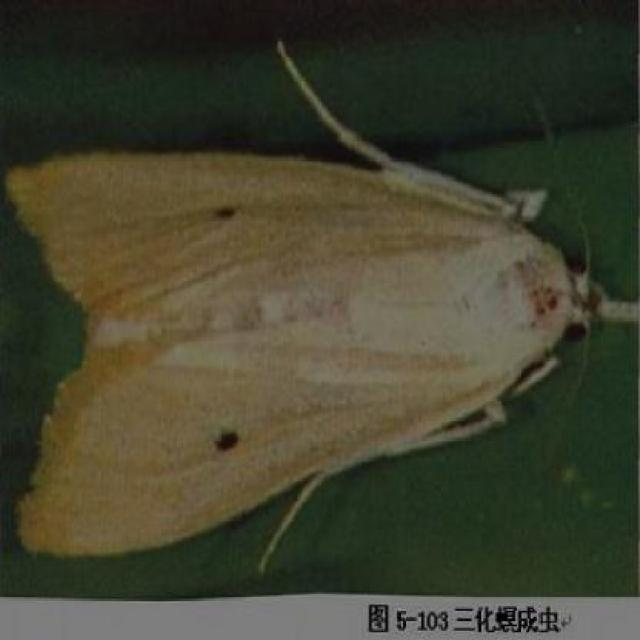stem-borer: (0, 40, 640, 575)
